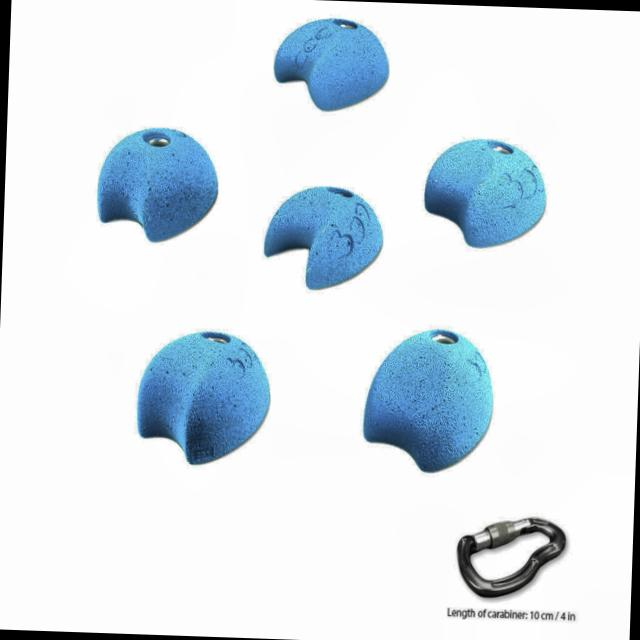Hold: (360, 326, 500, 480), (128, 327, 268, 465), (94, 122, 220, 248), (420, 130, 552, 250), (261, 180, 389, 296), (272, 15, 400, 114)
